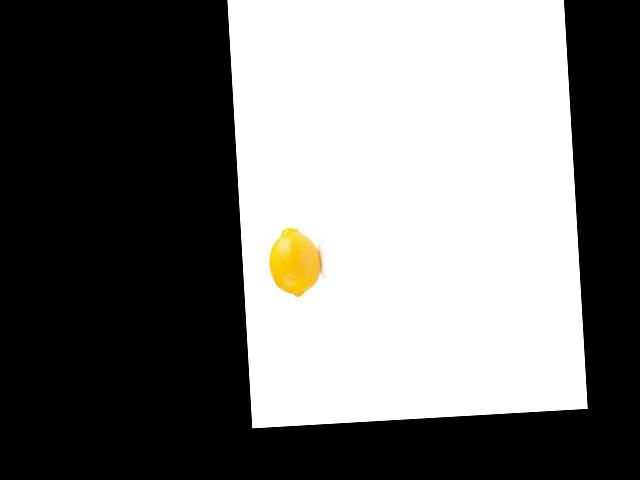lemon: (264, 220, 320, 302)
